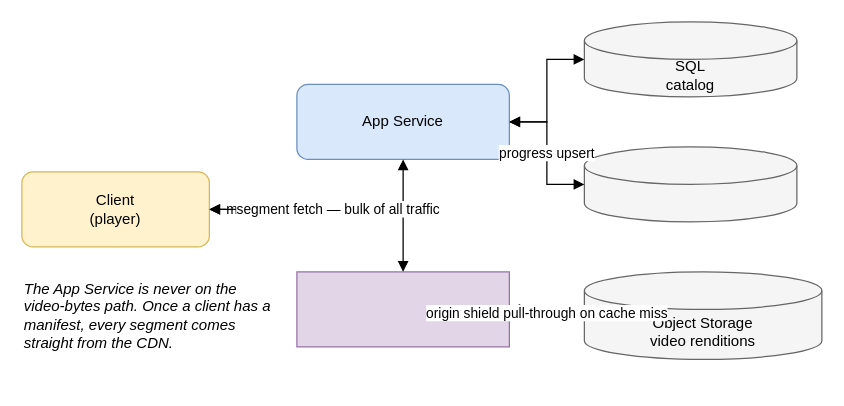
Image size: 844x406. Some labels were removed from this diagram. The shapes that lost their labels are listed below. From the top down, each one's box as (x1, y1, x2, y2) in pixels, then its label:
(583, 146, 797, 222): Cassandra watch_progress
(296, 271, 509, 347): CDN
